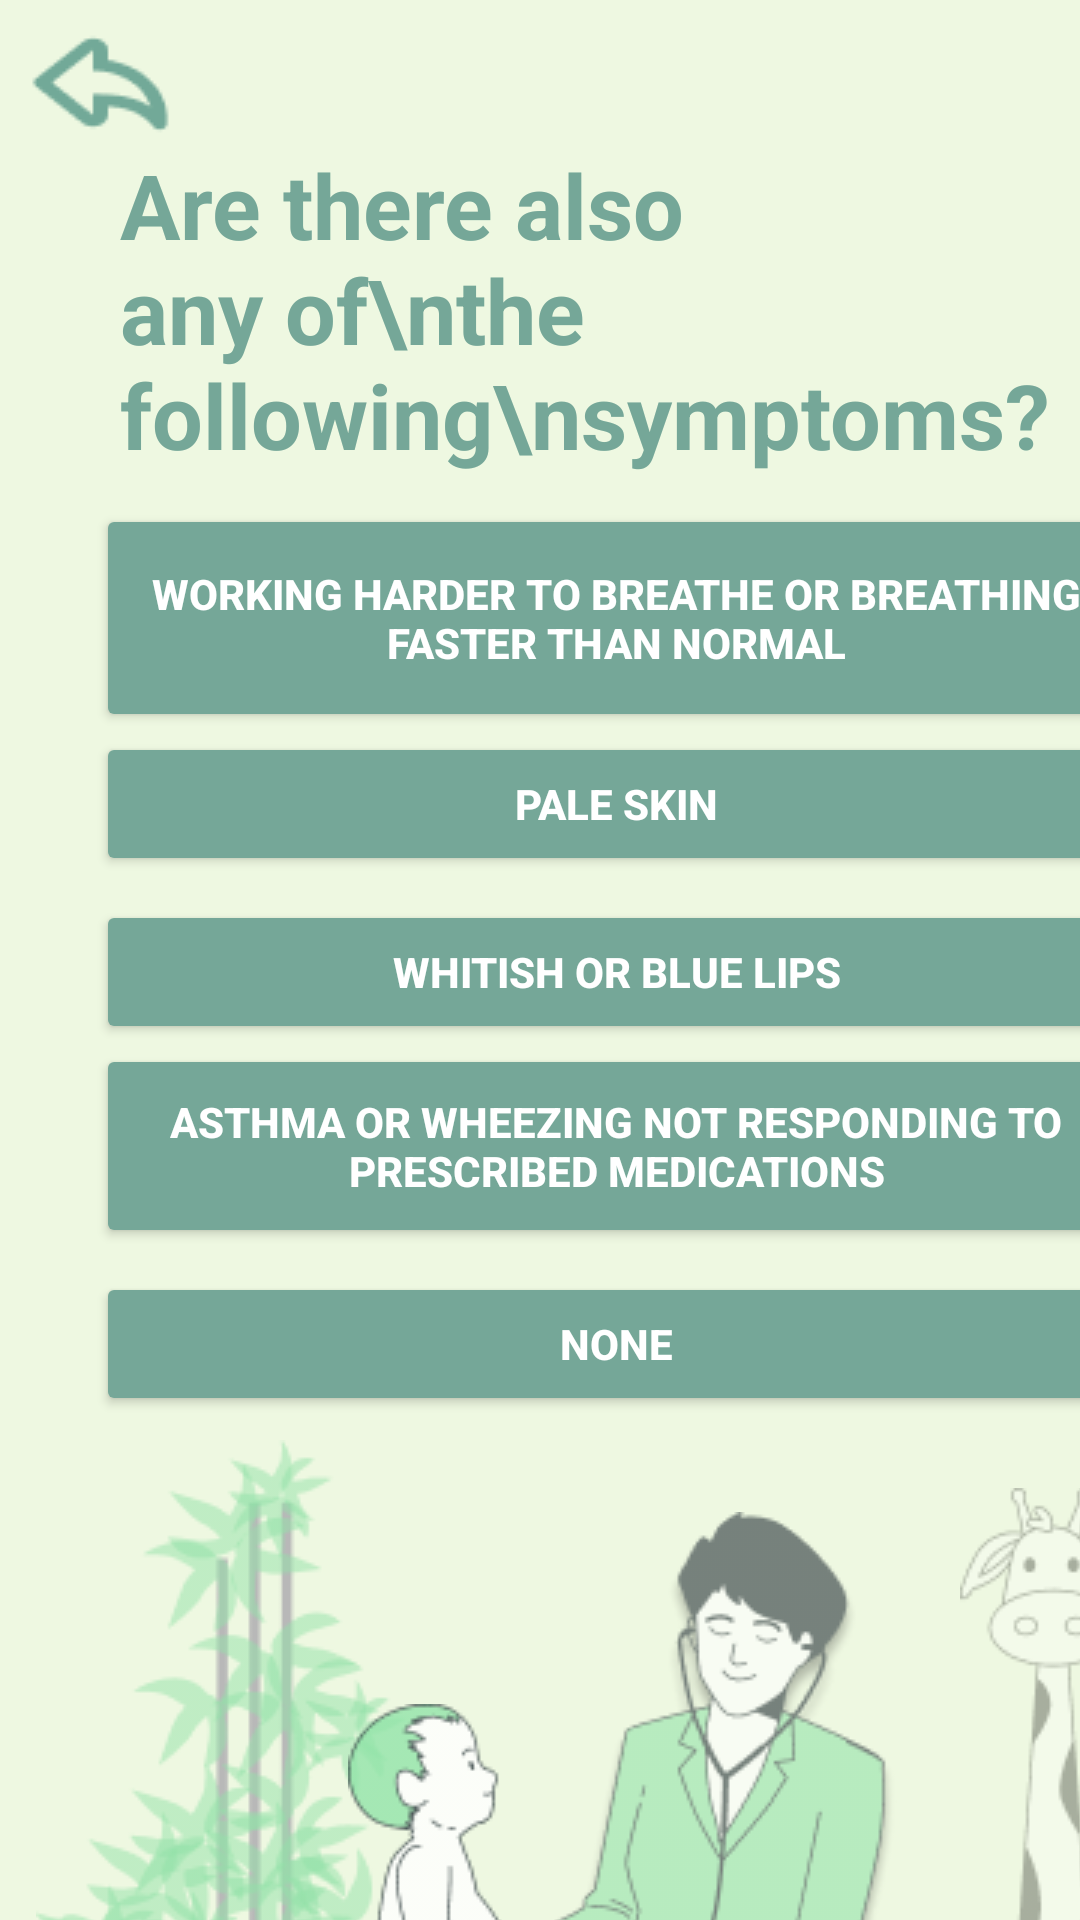

Locate icon controls on the screen. Image size 1080 x 1920, boxes as (x1, y1, x2, y2).
arrowback: (32, 38, 169, 130)
